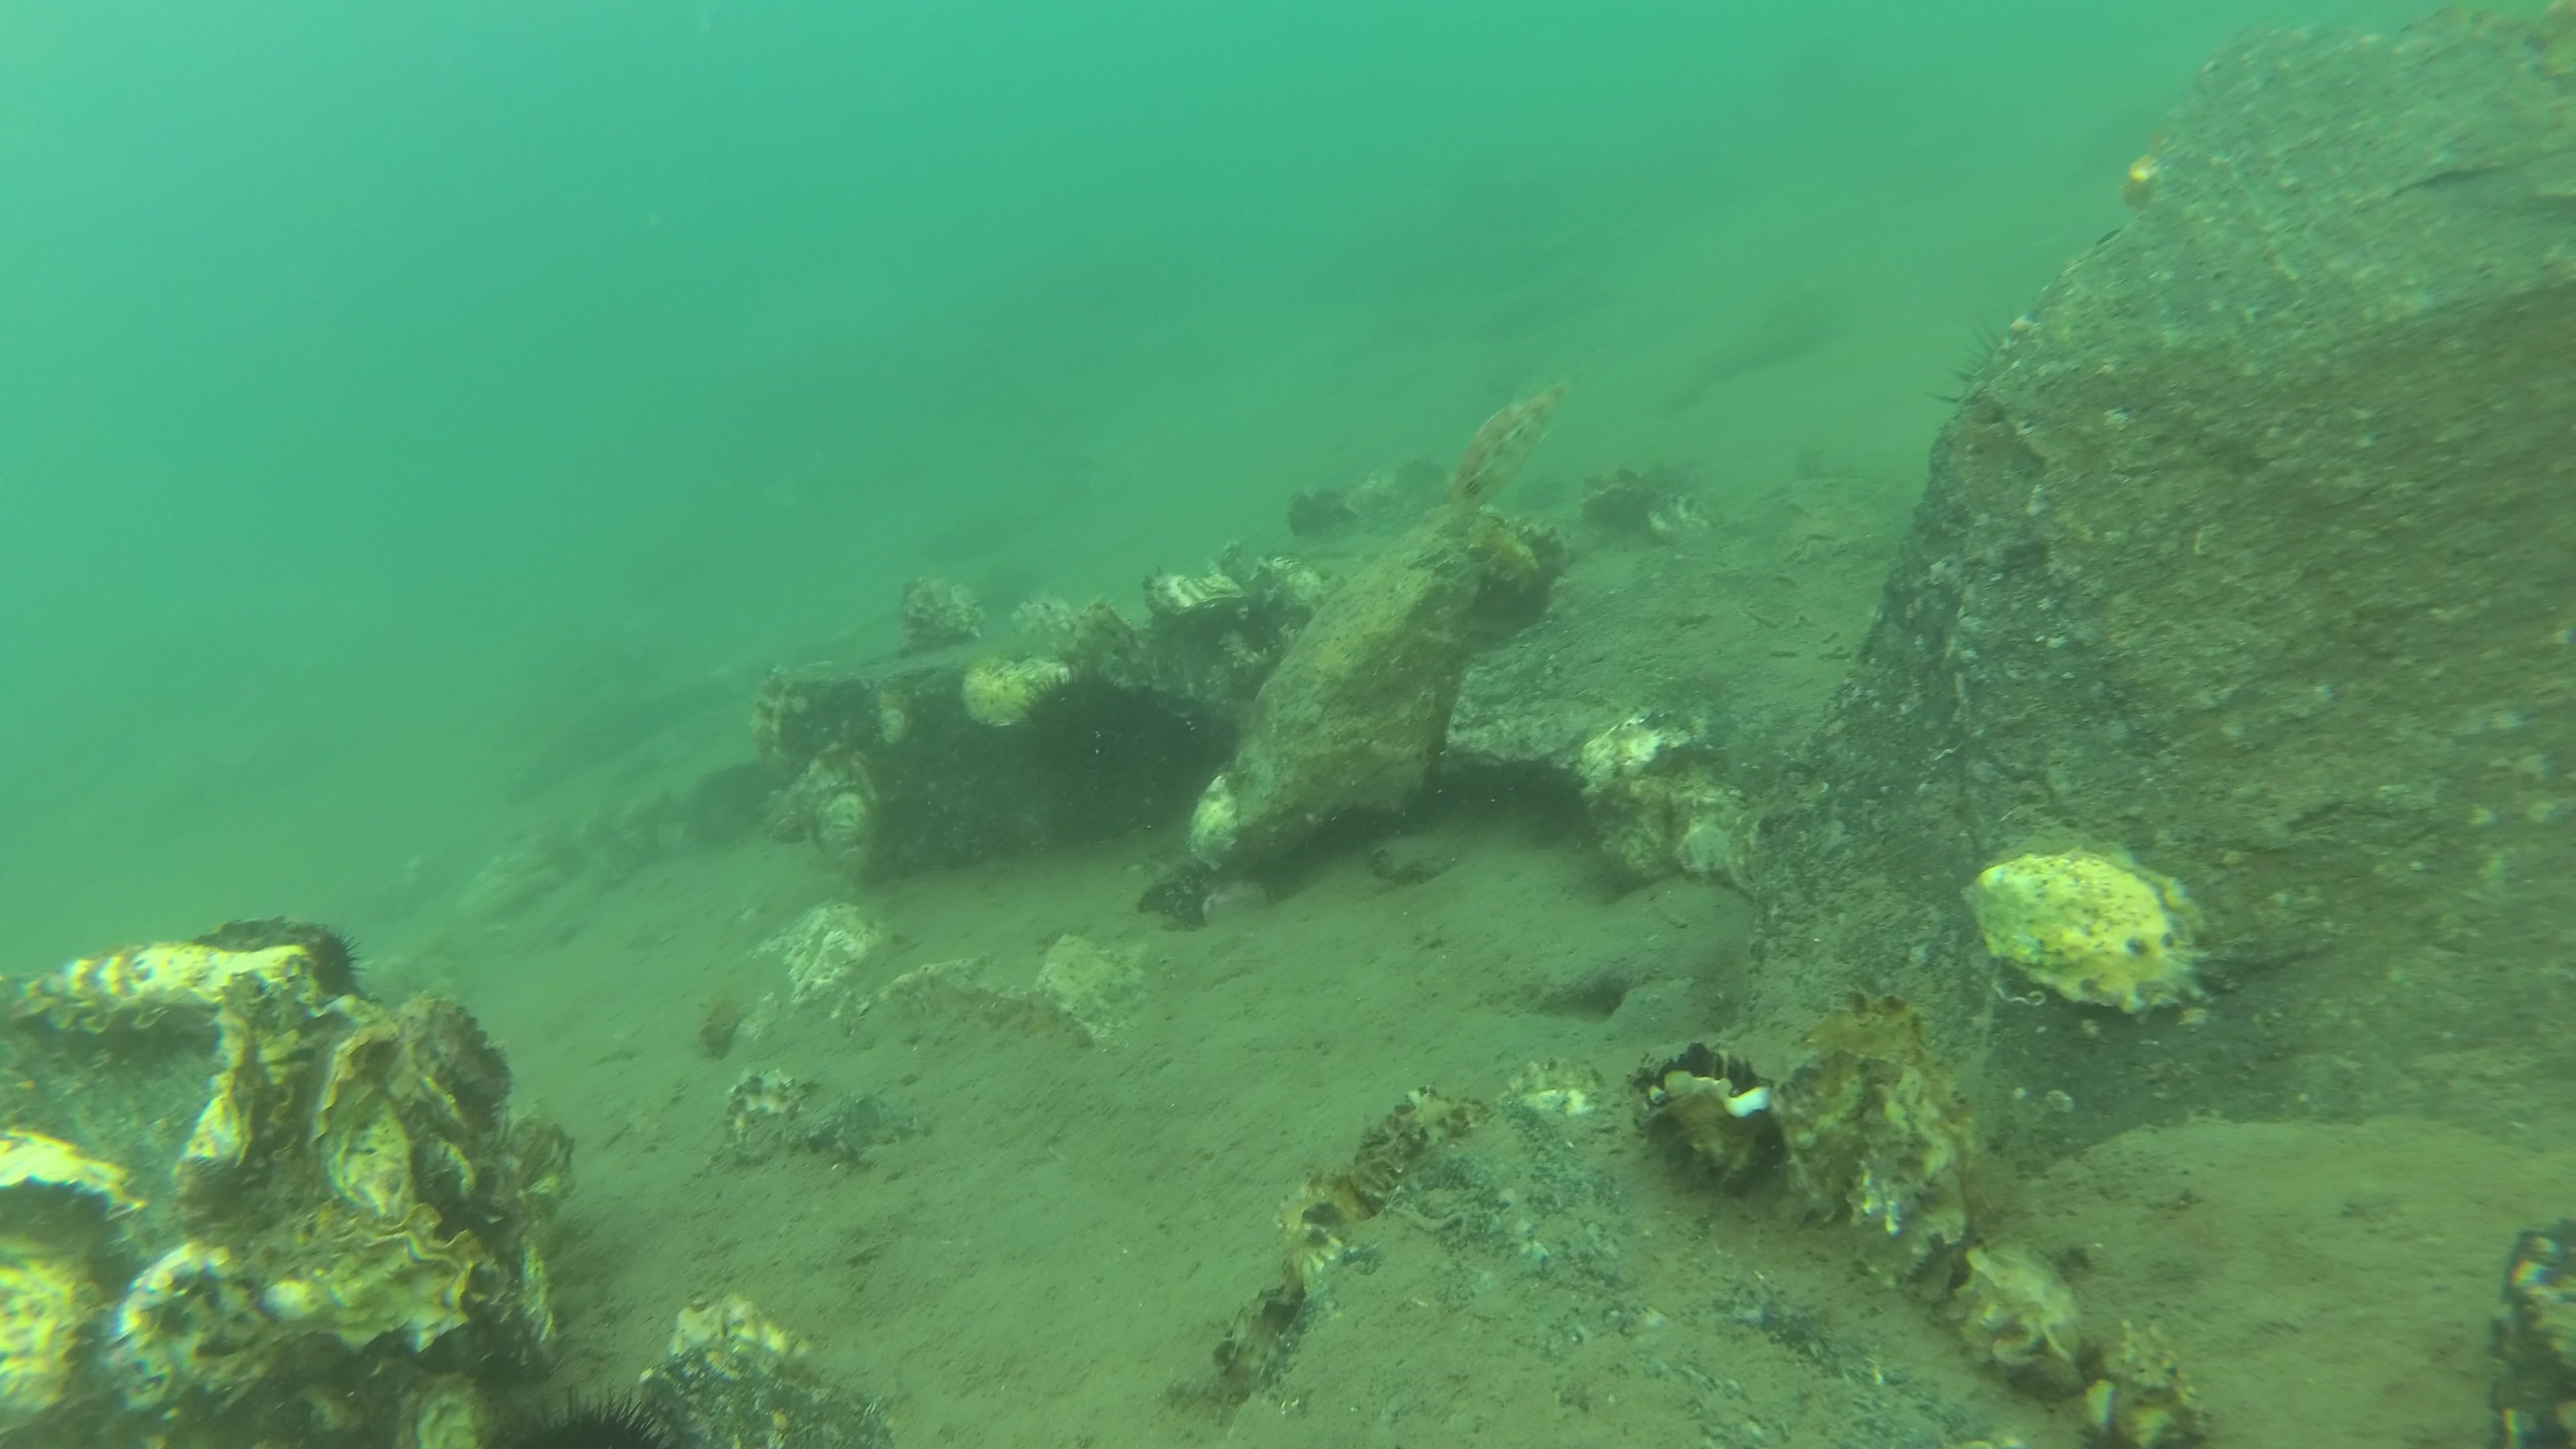echinus: (1016, 660, 1146, 766), (502, 1385, 679, 1449), (311, 927, 368, 996)
